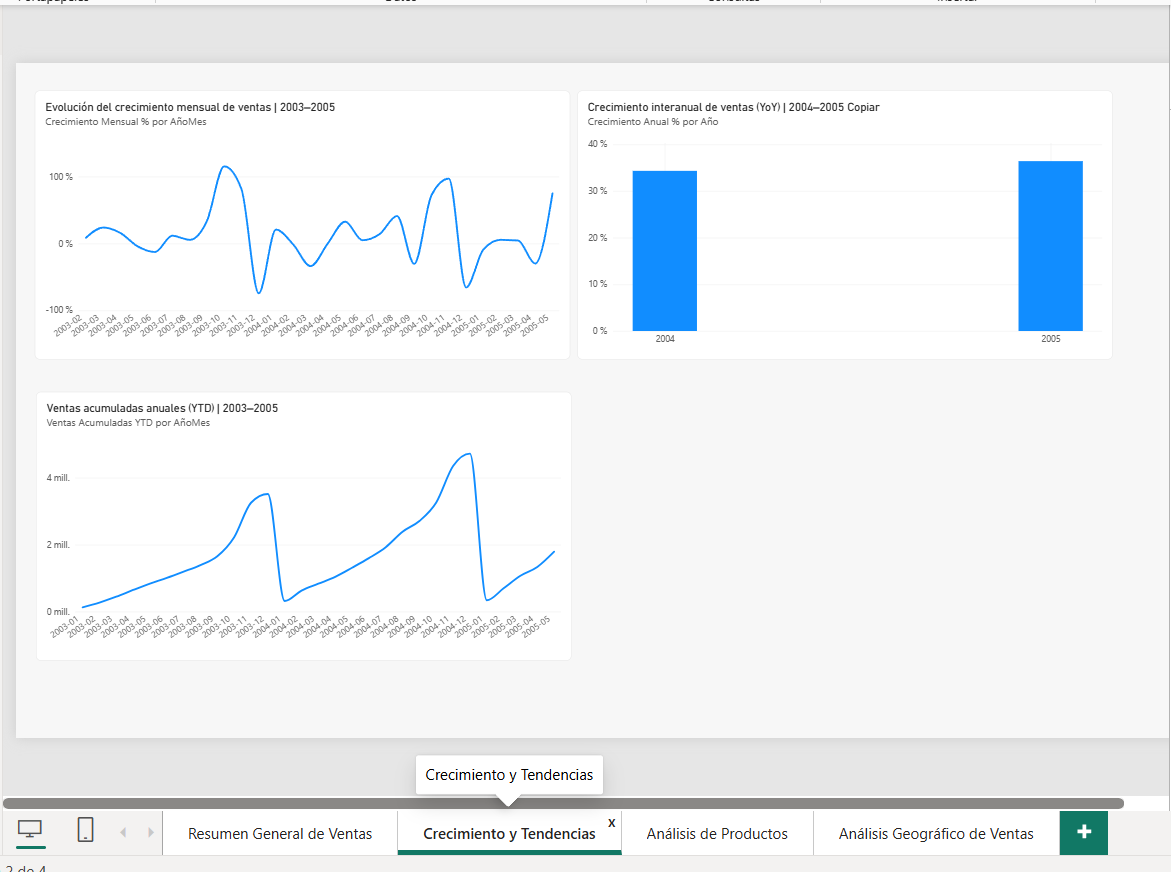

What the dashboard file says about the page in this screenshot:
{"tool":"powerbi","page":{"name":"Crecimiento y Tendencias","canvas":[1920,1080],"ordinal":1},"visuals":[{"type":"lineChart","title":"Evolución del crecimiento mensual de ventas | 2003–2005","fields":{"Category":["Calendario.AñoMes"],"Y":["sales_data_sample.Crecimiento Mensual %"]},"box":[30,43.3,856.7,430],"z":0},{"type":"lineChart","title":"Ventas acumuladas anuales (YTD) | 2003–2005","fields":{"Category":["Calendario.AñoMes"],"Y":["Calendario.Ventas Acumuladas YTD"]},"box":[31,525.9,857,430],"z":1000},{"type":"clusteredColumnChart","title":"Crecimiento interanual de ventas (YoY) | 2004–2005  Copiar","fields":{"Category":["Calendario.Año"],"Y":["sales_data_sample.Crecimiento Anual %"]},"box":[897,43,857,430],"z":2000}]}

Visuals, with their boxes on the page's 1920x1080 design canvas (x1, y1, x2, y2). These are canvas units, not pixel positions in the 1171x872 screenshot, which may show the page scaled, cropped or inside an application window:
"Evolución del crecimiento mensual de ventas | 2003–2005" lineChart: l=30, t=43, r=887, b=473
"Ventas acumuladas anuales (YTD) | 2003–2005" lineChart: l=31, t=526, r=888, b=956
"Crecimiento interanual de ventas (YoY) | 2004–2005  Copiar" clusteredColumnChart: l=897, t=43, r=1754, b=473
